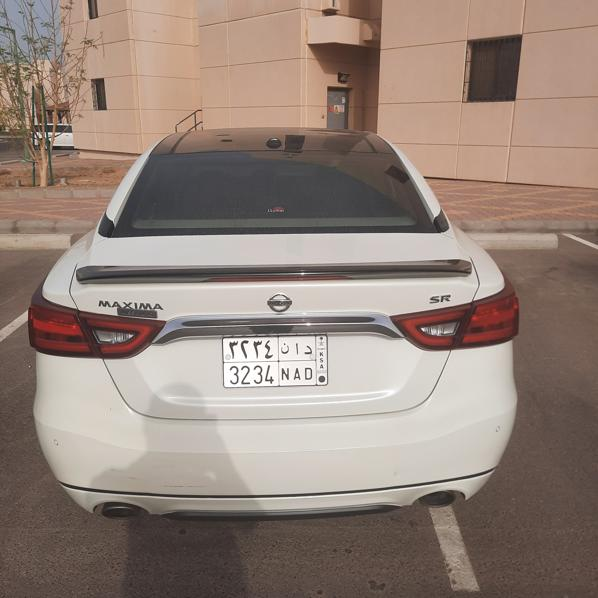numberplate: (222, 336, 331, 385)
